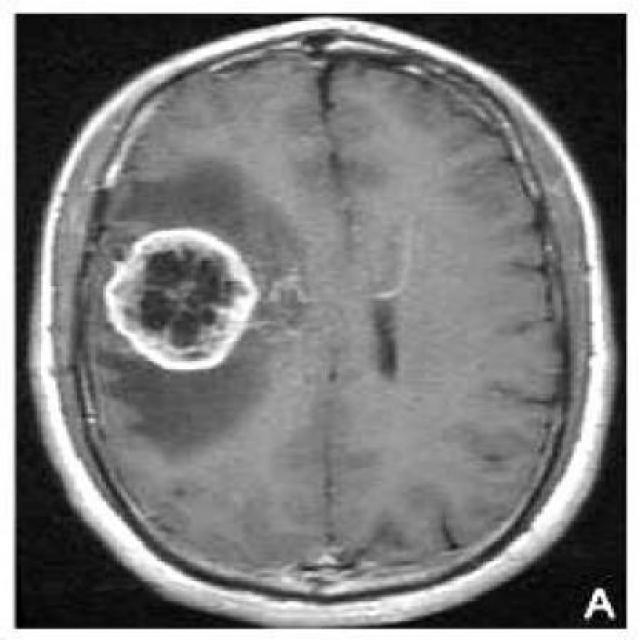Brain-Tumor: (95, 218, 273, 386)
